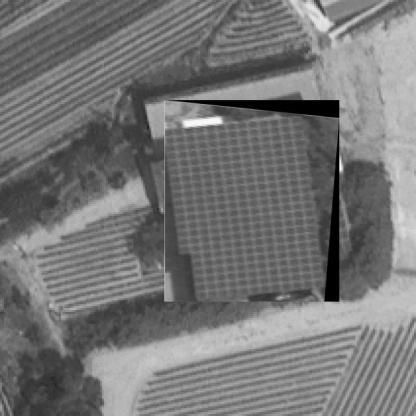solar-pv-panel: (165, 111, 329, 302)
